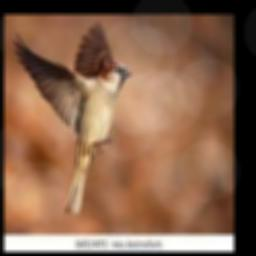Sparrow: (13, 21, 131, 214)
